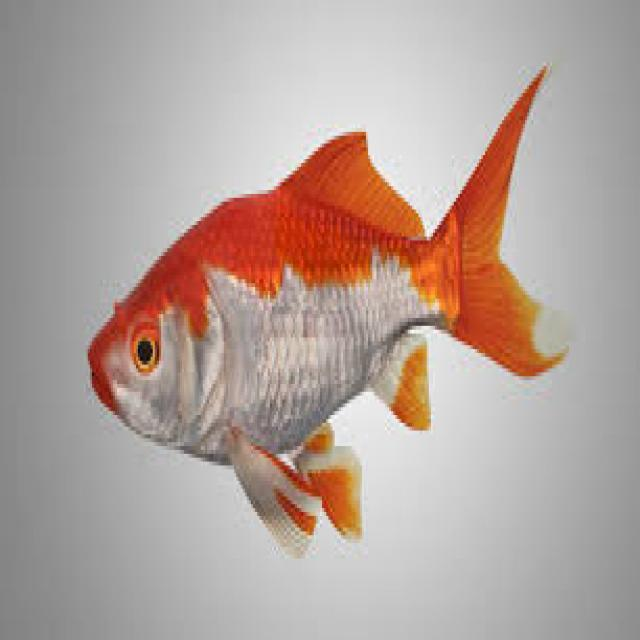goldfish: (81, 76, 560, 520)
